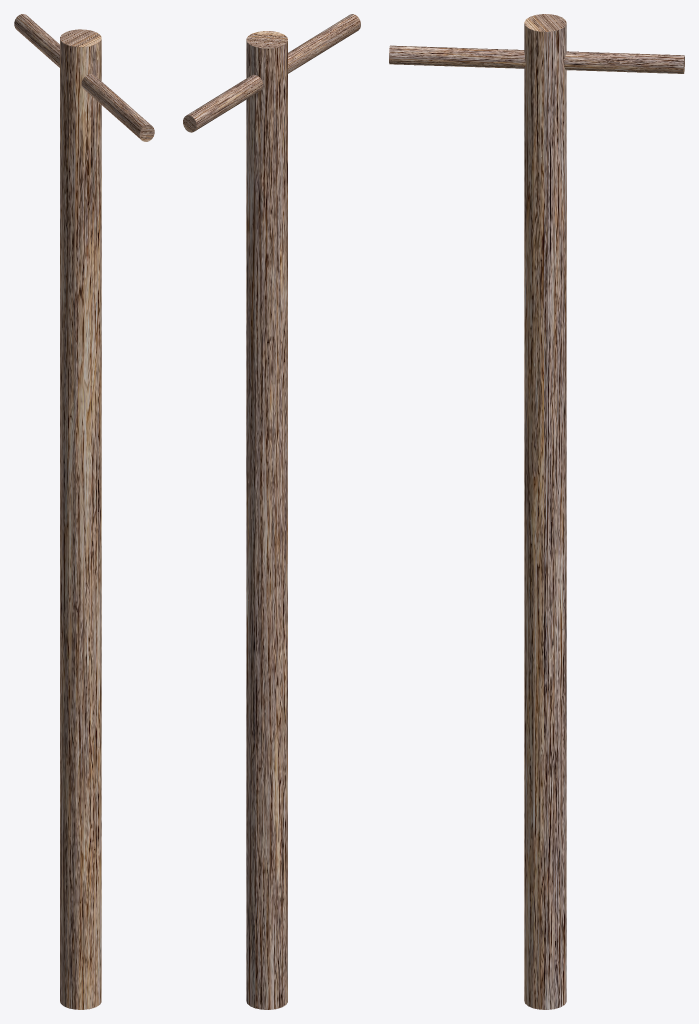
The model's file is poste.obj.
3 renders of one model, left to right at view 1: azimuth 30°, elevation 25°; view 2: azimuth 150°, elevation 25°; view 3: azimuth 270°, elevation 25°, orthographic.
Parts seen in each view (by area): view 1: Cylinder001; view 2: Cylinder001; view 3: Cylinder001.
Part boxes in pixels (x1,y1,x2,y2): Cylinder001: [14, 14, 154, 1009]; Cylinder001: [183, 14, 360, 1009]; Cylinder001: [389, 14, 684, 1009].
Bounding box in the file's own units: 2.91 × 73.83 × 20.24.
Materials: 1 (1 with a texture image).
